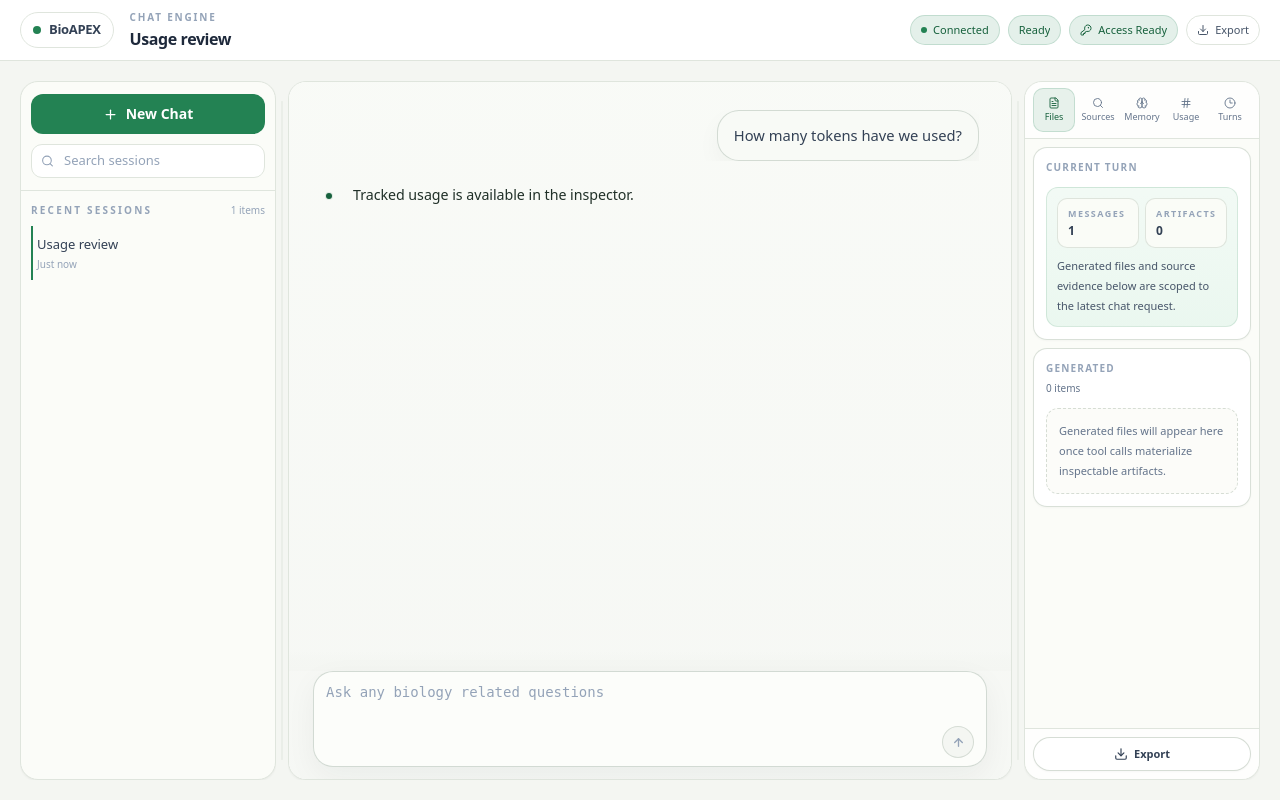
it: AppShell chat-only contract › renders the right-rail usage panel with tracked totals
The image size is (1280, 800).
Click the button with aria-label "Inspector Usage" at {"x": 1186, "y": 110}, box [1165,88,1207,132]
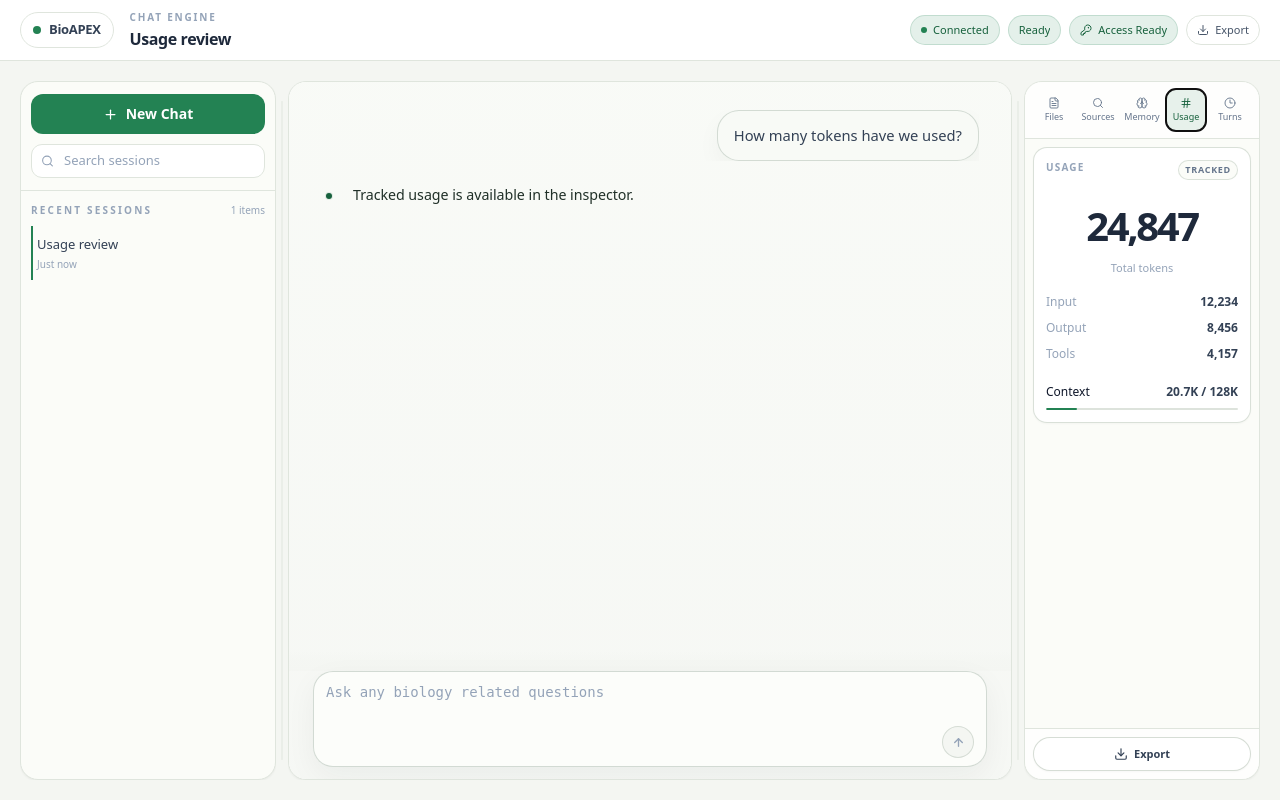
Expected: the text "24,847" is shown, [1086,198,1198,252]
Expected: the text "12,234" is shown, [1200,292,1238,312]
Expected: the text "8,456" is shown, [1207,318,1238,338]
